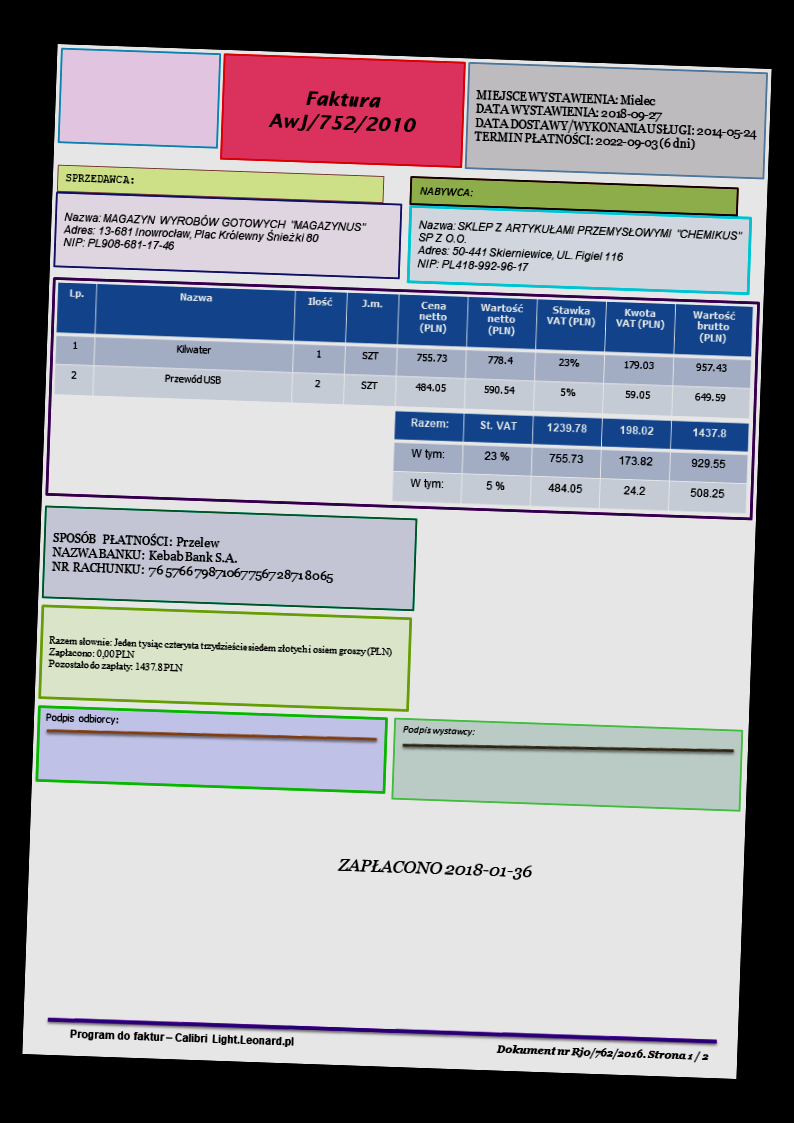Table: (53, 282, 754, 419), (390, 409, 750, 515)
TextBox: (413, 216, 745, 281), (473, 85, 760, 156), (50, 525, 336, 587), (46, 633, 395, 683), (61, 208, 369, 260), (265, 85, 422, 139), (67, 1024, 297, 1050), (334, 853, 538, 882), (495, 1039, 711, 1066), (44, 706, 121, 727), (63, 168, 136, 187), (399, 721, 474, 738), (416, 181, 474, 199)
